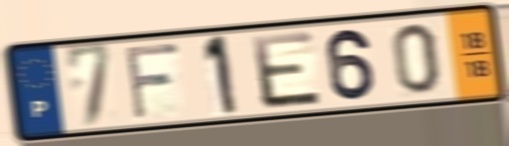0: (388, 21, 448, 99)
1: (201, 32, 240, 119)
6: (324, 26, 379, 104)
7: (62, 40, 114, 134)
E: (248, 28, 327, 112)
F: (121, 39, 183, 124)
